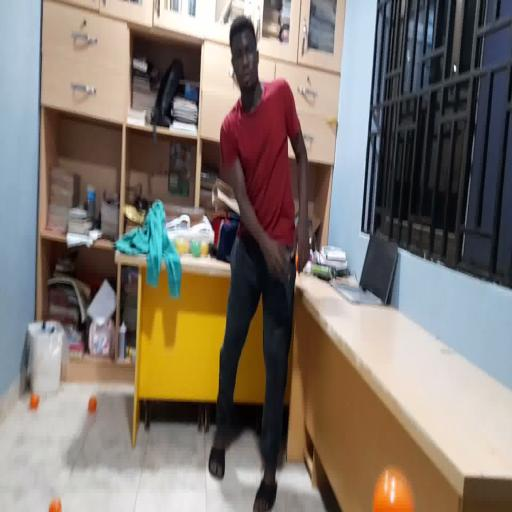plastic-ball: (369, 461, 417, 512)
